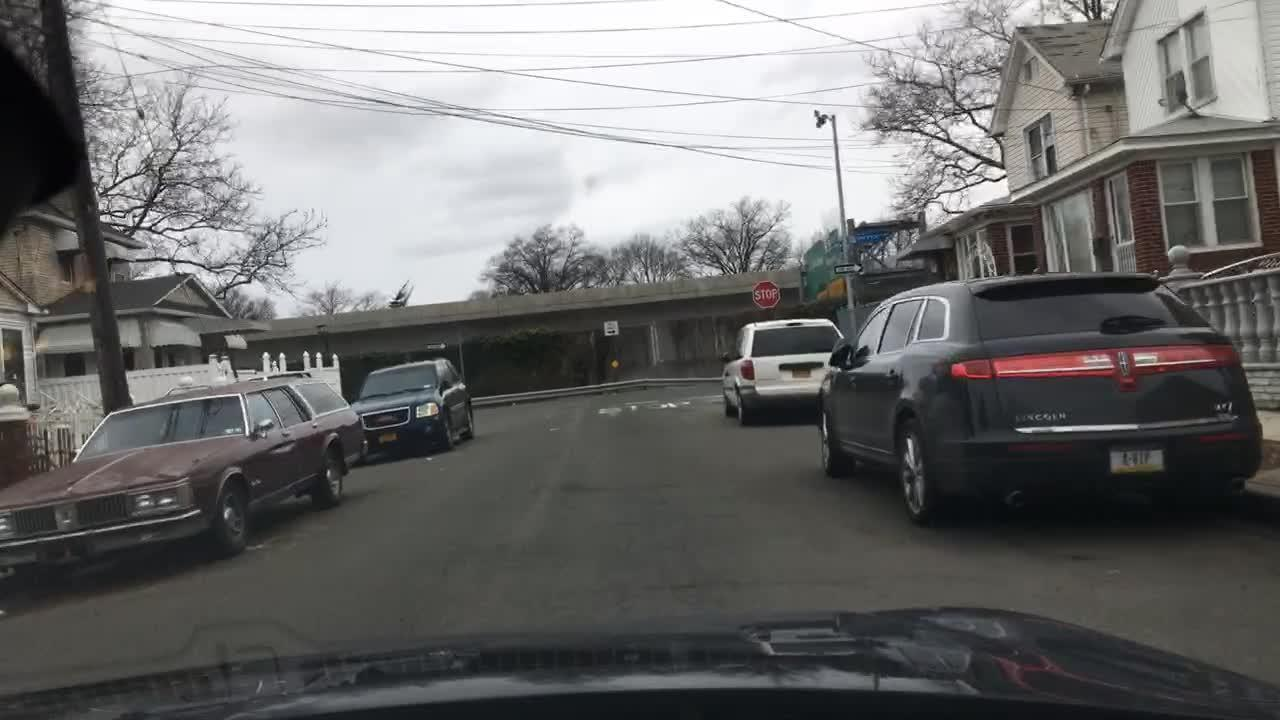lincoln: (1116, 346, 1136, 380)
